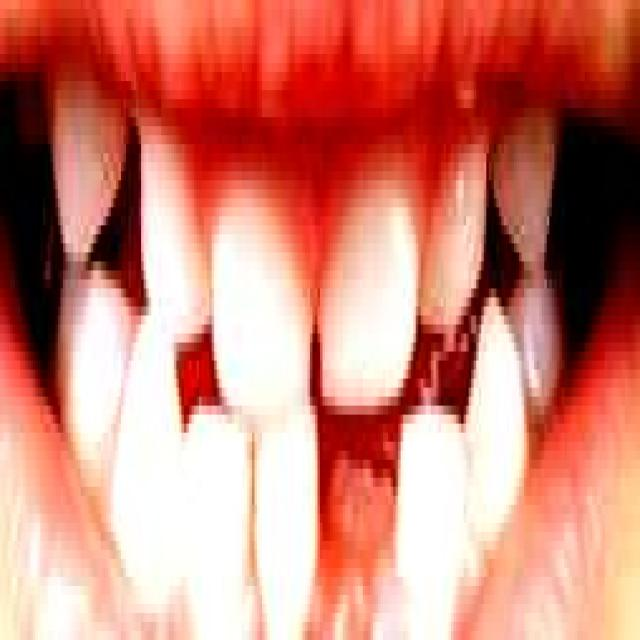caries: (331, 437, 397, 568)
